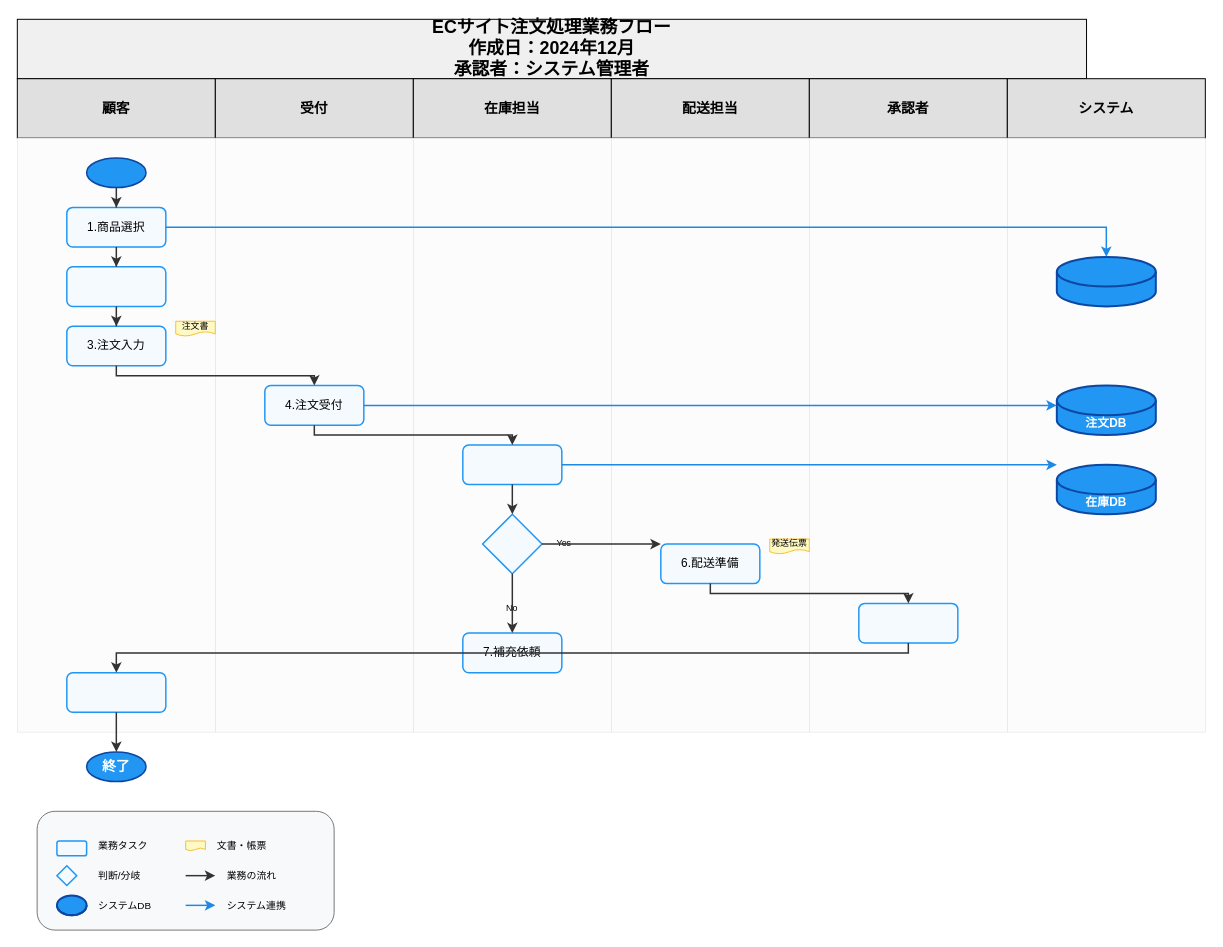
This 1223x947 diagram has some shape labels left out. The shapes that lost their labels are listed below. From the top down, each one's box as (x1, y1, x2, y2) in pixels, then its label:
(85, 157, 146, 188): 開始
(66, 266, 166, 307): 2.カート追加
(1055, 255, 1156, 307): 商品DB
(462, 444, 562, 485): 5.在庫確認
(481, 513, 542, 574): 在庫 十分？
(858, 602, 958, 643): 8.承認確認
(66, 672, 166, 713): 発送通知
(36, 810, 334, 930): 凡例
